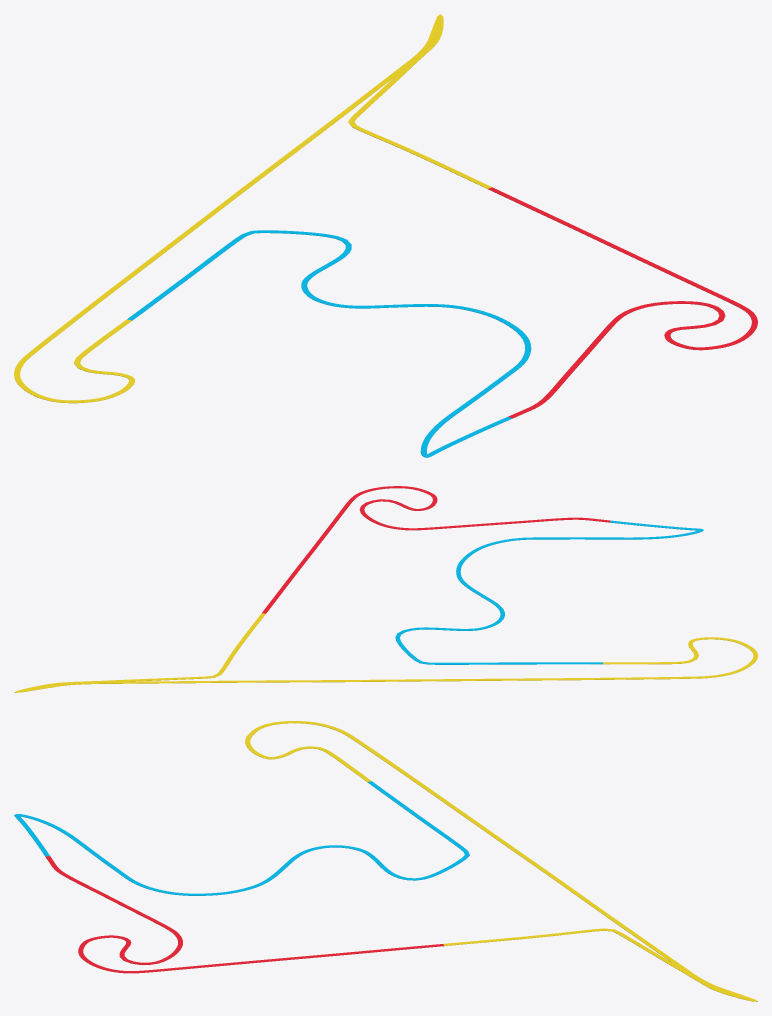
File: ShanghaiSectors.glb
3 views of the same model, one above another, from view 1: azimuth 30°, elevation 25°; view 2: azimuth 150°, elevation 25°; view 3: azimuth 270°, elevation 25° (orthographic). The views are drawn at different scales.
Parts seen in each view (by area): view 1: SectorStrip_3, SectorStrip_2, SectorStrip_1; view 2: SectorStrip_3, SectorStrip_2, SectorStrip_1; view 3: SectorStrip_3, SectorStrip_2, SectorStrip_1.
Part boxes in pixels (x1,y1,x2,y2): SectorStrip_3: (14, 14, 491, 403); SectorStrip_2: (127, 230, 531, 457); SectorStrip_1: (488, 187, 757, 418); SectorStrip_3: (14, 613, 757, 692); SectorStrip_2: (395, 520, 703, 664); SectorStrip_1: (262, 486, 610, 613); SectorStrip_3: (245, 721, 757, 1001); SectorStrip_2: (14, 781, 469, 895); SectorStrip_1: (45, 856, 443, 973).
Bounding box in the file's own units: 15.86 × 0.006 × 17.76.
